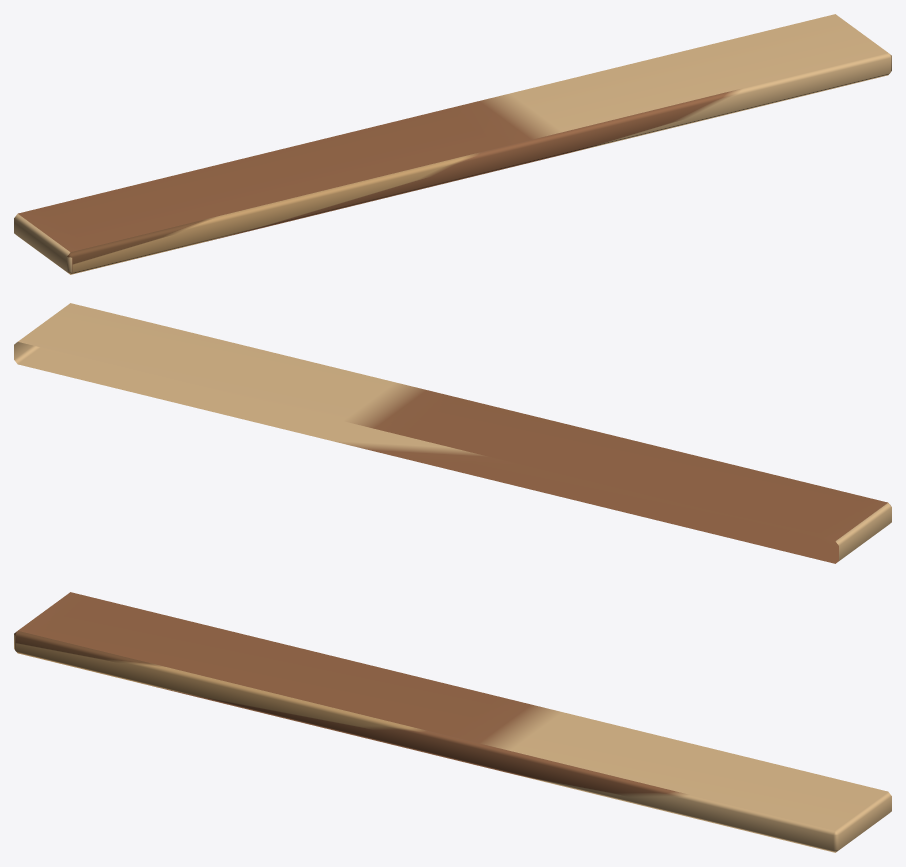
The model's file is DBK_WinBig_Trim_B_Tile.fbx.
3 renders of one model, top to bottom at view 1: azimuth 30°, elevation 25°; view 2: azimuth 150°, elevation 25°; view 3: azimuth 330°, elevation 25°, orthographic.
Parts seen in each view (by area): view 1: DBK_WinBig_Trim_B_Tile; view 2: DBK_WinBig_Trim_B_Tile; view 3: DBK_WinBig_Trim_B_Tile.
Boxes of the visible parts, <box> form: DBK_WinBig_Trim_B_Tile: <box>14,14,891,274</box>; DBK_WinBig_Trim_B_Tile: <box>14,303,891,563</box>; DBK_WinBig_Trim_B_Tile: <box>14,592,891,852</box>.
Bounding box in the file's own units: 204 × 5.34 × 23.51.
